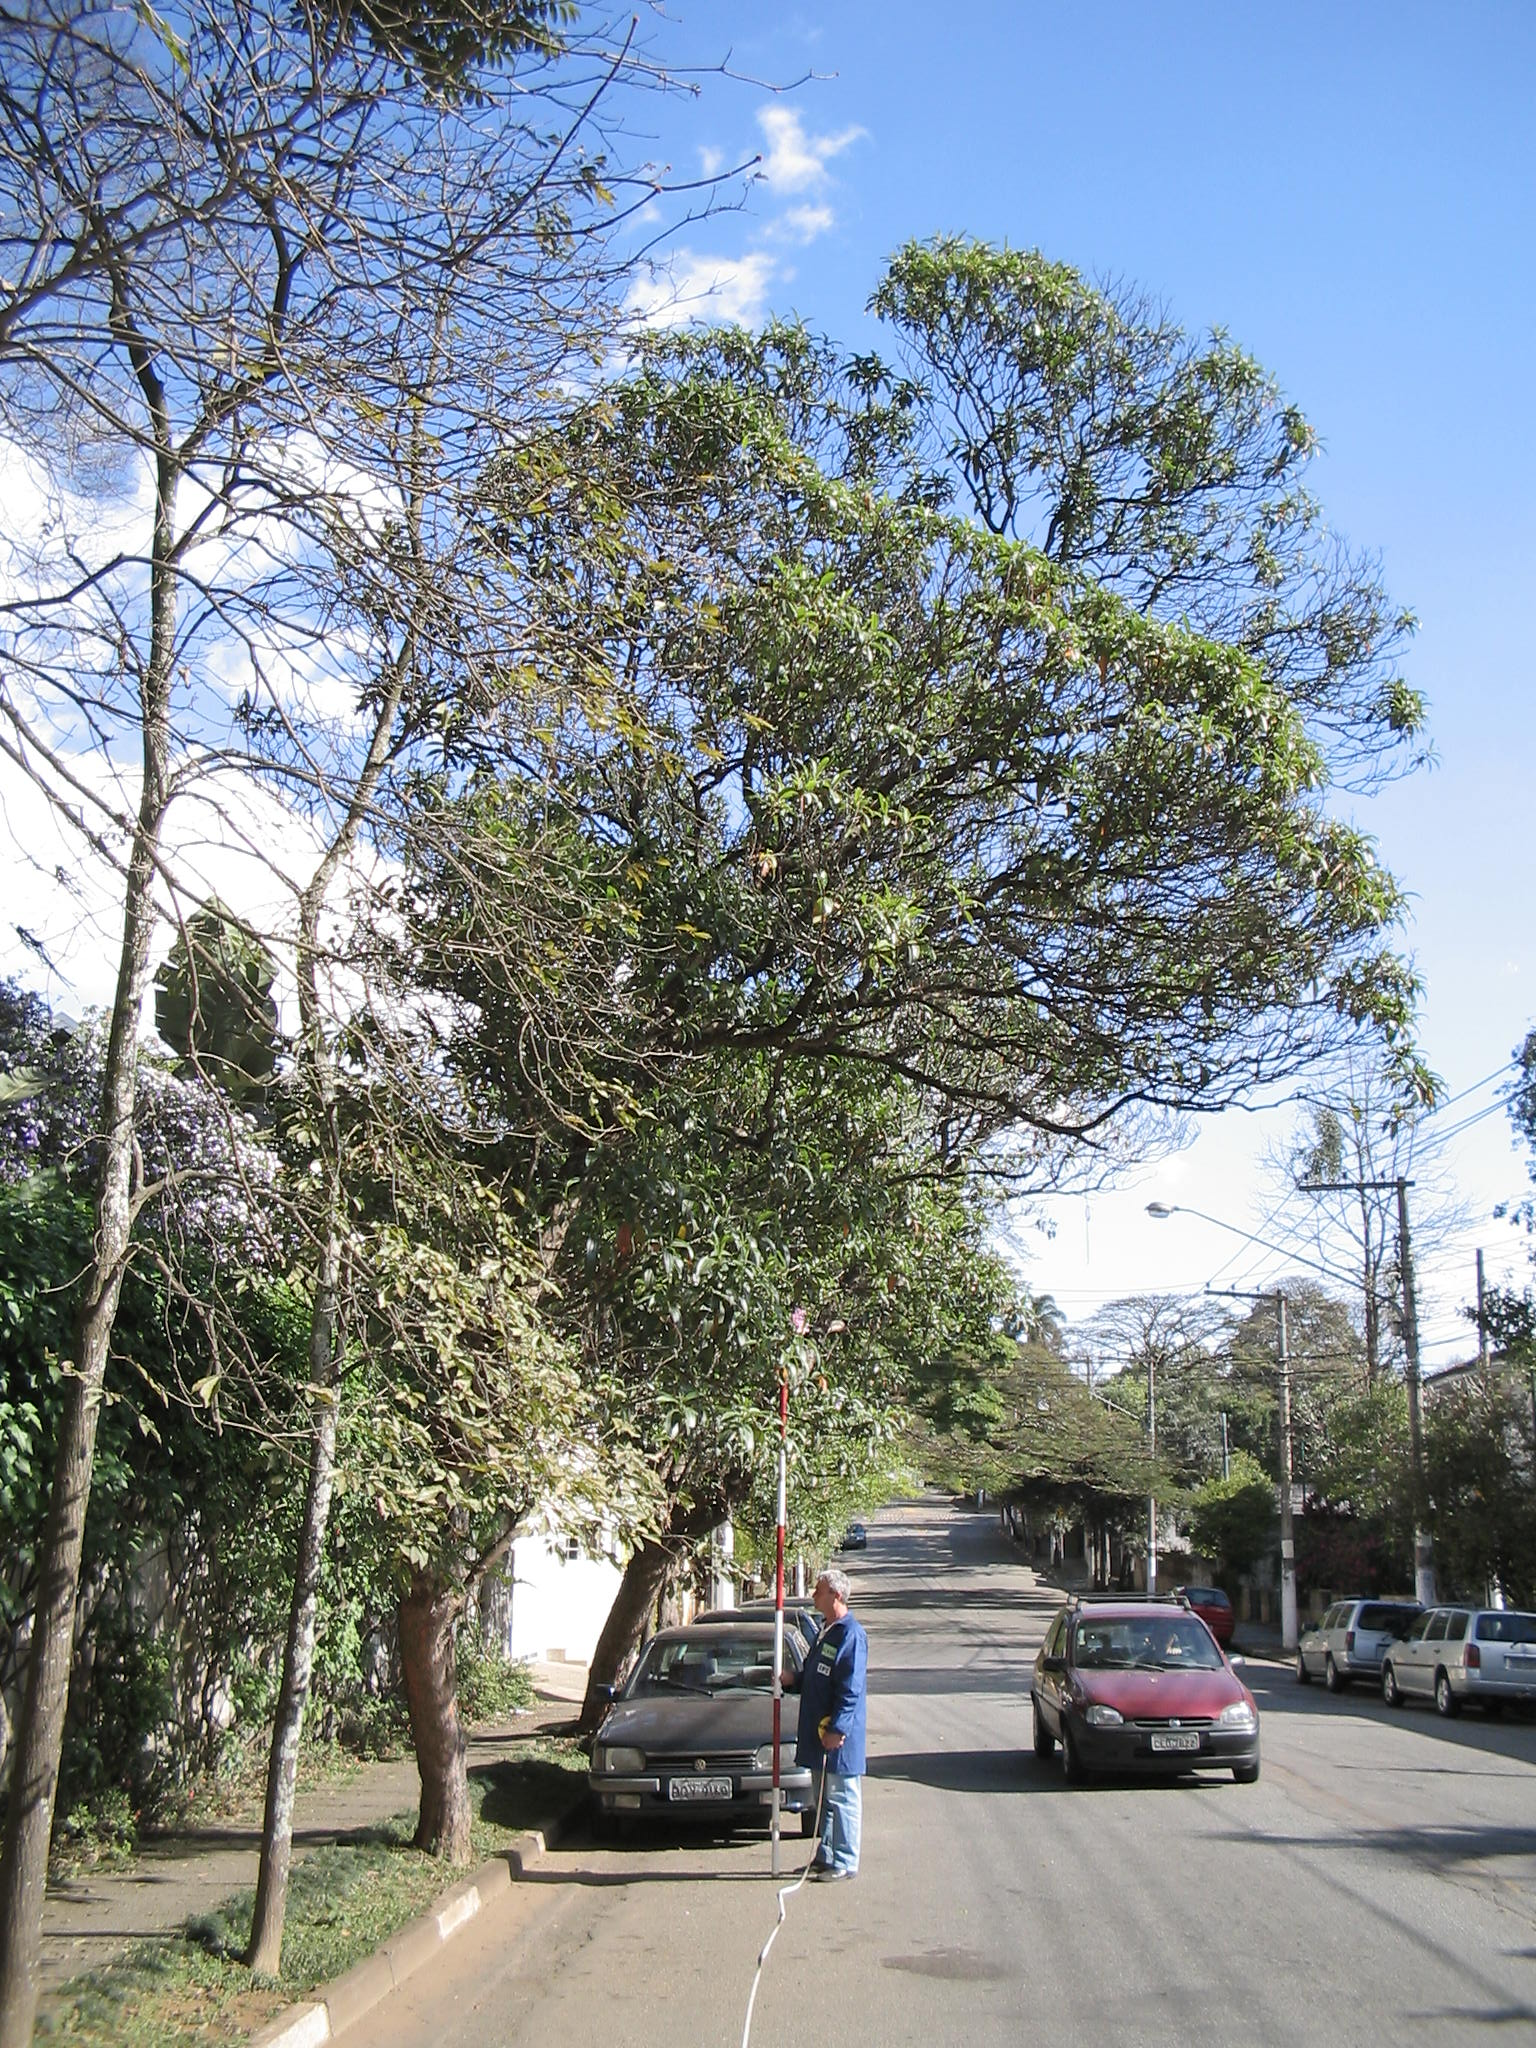crown: (319, 334, 1425, 1432)
stem: (352, 1566, 524, 1858)
stick: (744, 1366, 816, 1879)
tree: (311, 329, 1425, 1863)
